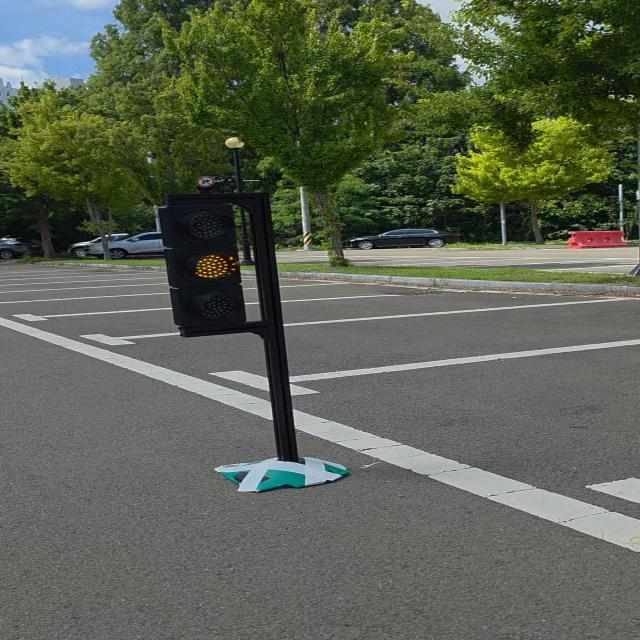yellow: (162, 208, 254, 344)
